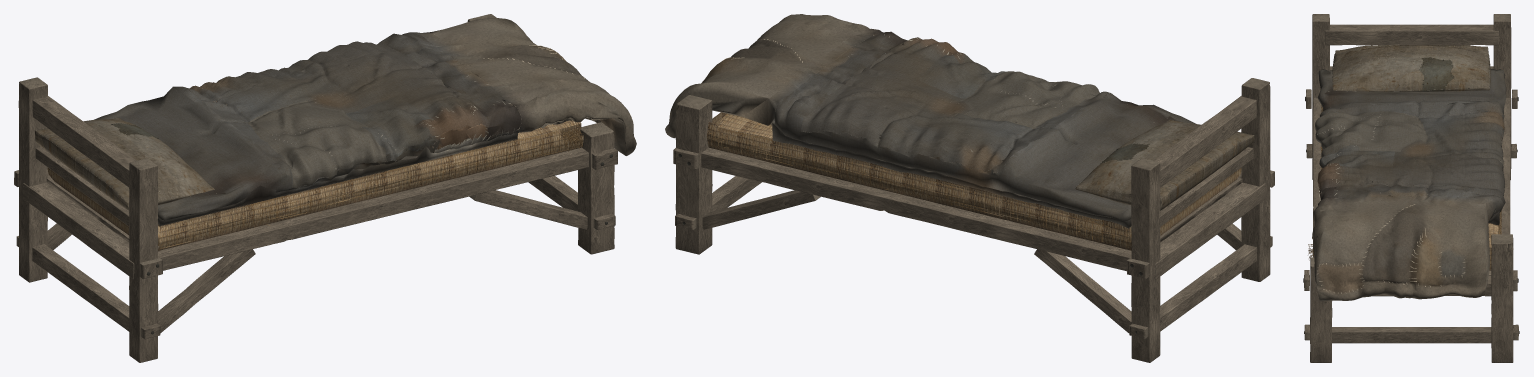
File: Model_PatchedTimberBed.glb
3 views of the same model, side by side, from view 1: azimuth 30°, elevation 25°; view 2: azimuth 150°, elevation 25°; view 3: azimuth 270°, elevation 25° (orthographic). The views are drawn at different scales.
Parts seen in each view (by area): view 1: Quilt, Frame, Straw, BS_FootCloth.001, Pillow; view 2: Quilt, Frame, Straw, BS_FootCloth.001, Pillow; view 3: Quilt, BS_FootCloth.001, Frame, Pillow, Sewing, Straw.
Part boxes in pixels (left/top/right/bottom): Quilt: left=94, top=32, right=521, bottom=225; Frame: left=14, top=14, right=617, bottom=362; Straw: left=47, top=120, right=586, bottom=250; BS_FootCloth.001: left=417, top=17, right=636, bottom=155; Pillow: left=35, top=117, right=214, bottom=210; Quilt: left=772, top=29, right=1195, bottom=228; Frame: left=673, top=78, right=1274, bottom=362; Straw: left=707, top=112, right=1241, bottom=250; BS_FootCloth.001: left=665, top=14, right=878, bottom=138; Pillow: left=1075, top=119, right=1254, bottom=210; Quilt: left=1315, top=68, right=1506, bottom=225; BS_FootCloth.001: left=1312, top=195, right=1496, bottom=301; Frame: left=1303, top=14, right=1519, bottom=362; Pillow: left=1332, top=45, right=1490, bottom=91; Sewing: left=1317, top=91, right=1482, bottom=293; Straw: left=1308, top=104, right=1501, bottom=270.
Size of the model in its own units: 2.46 by 0.8928 by 1.1.
6 materials, 6 textured.
